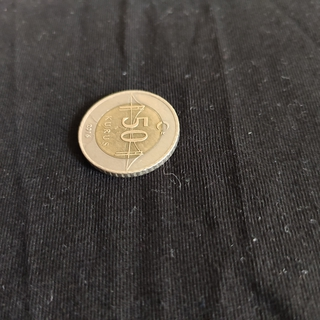50KURUS: (76, 88, 180, 178)
